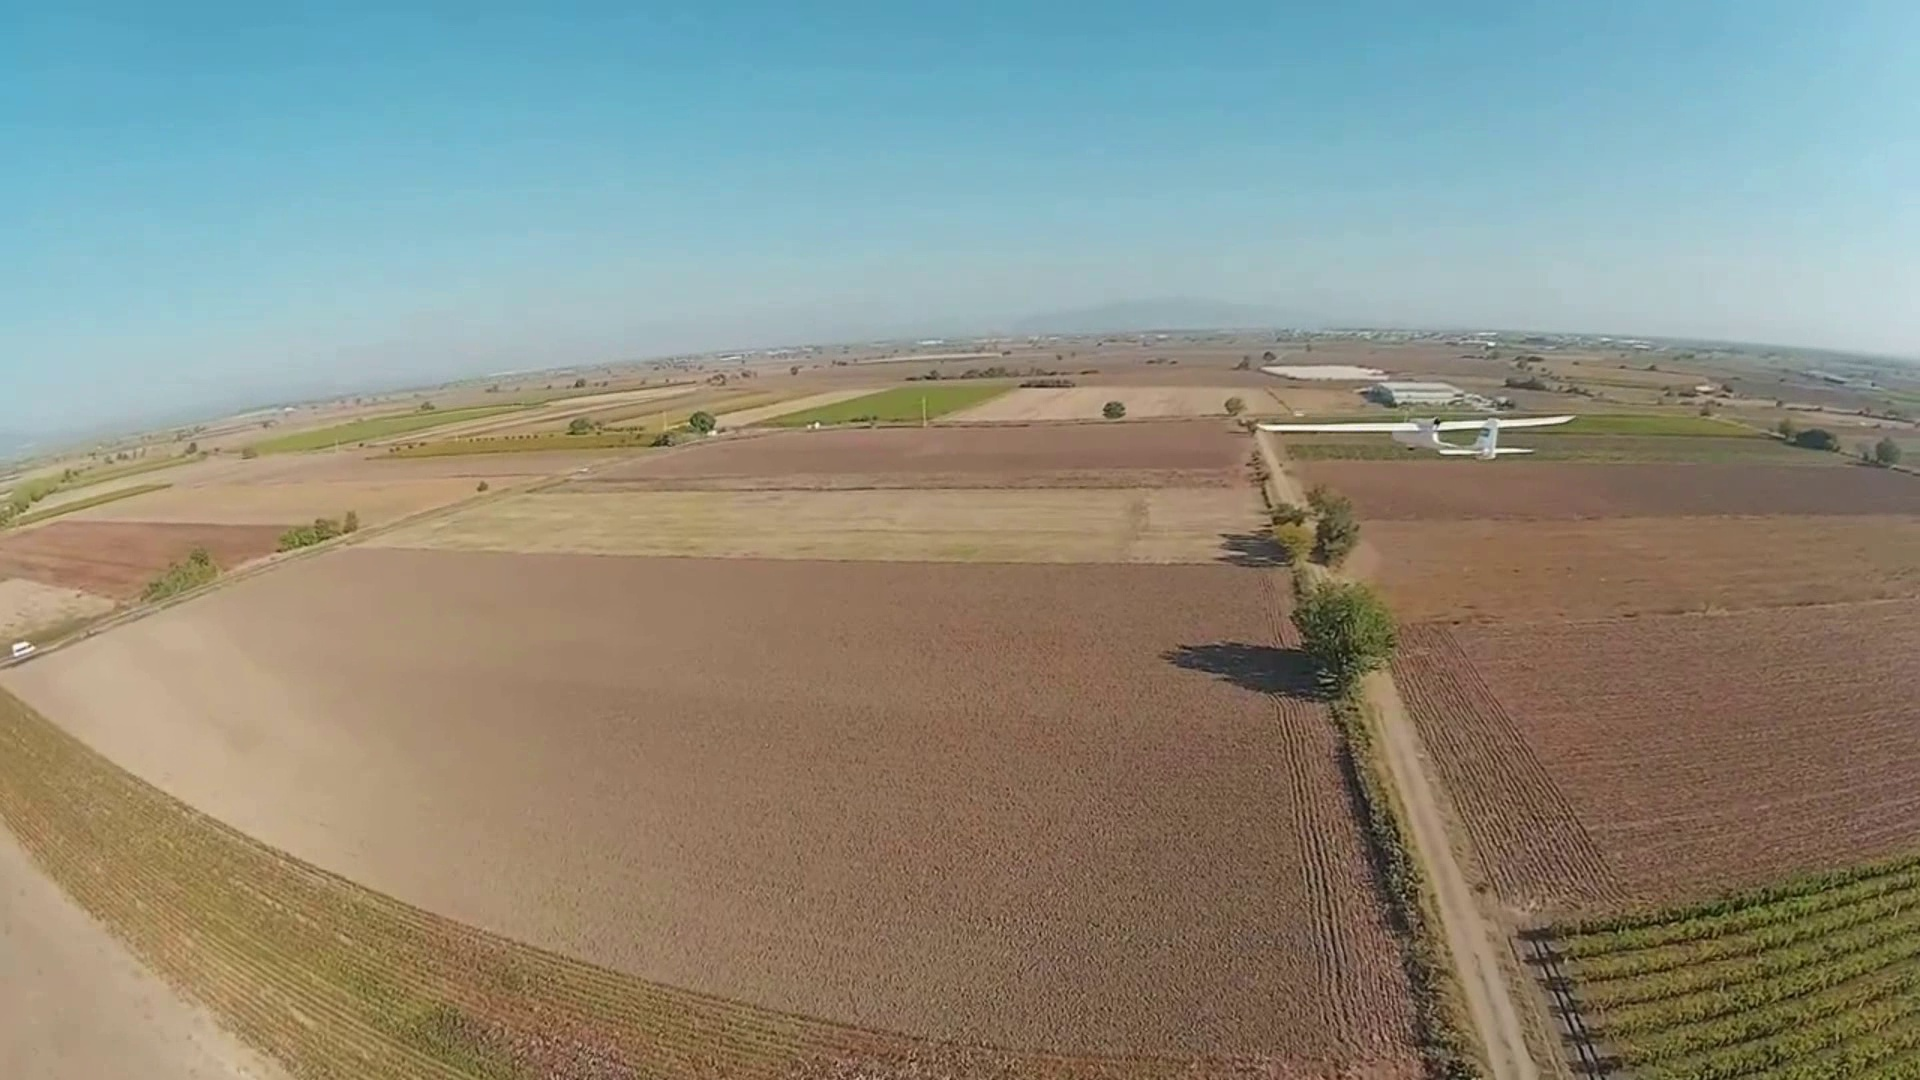airplane: (1227, 375, 1576, 443)
